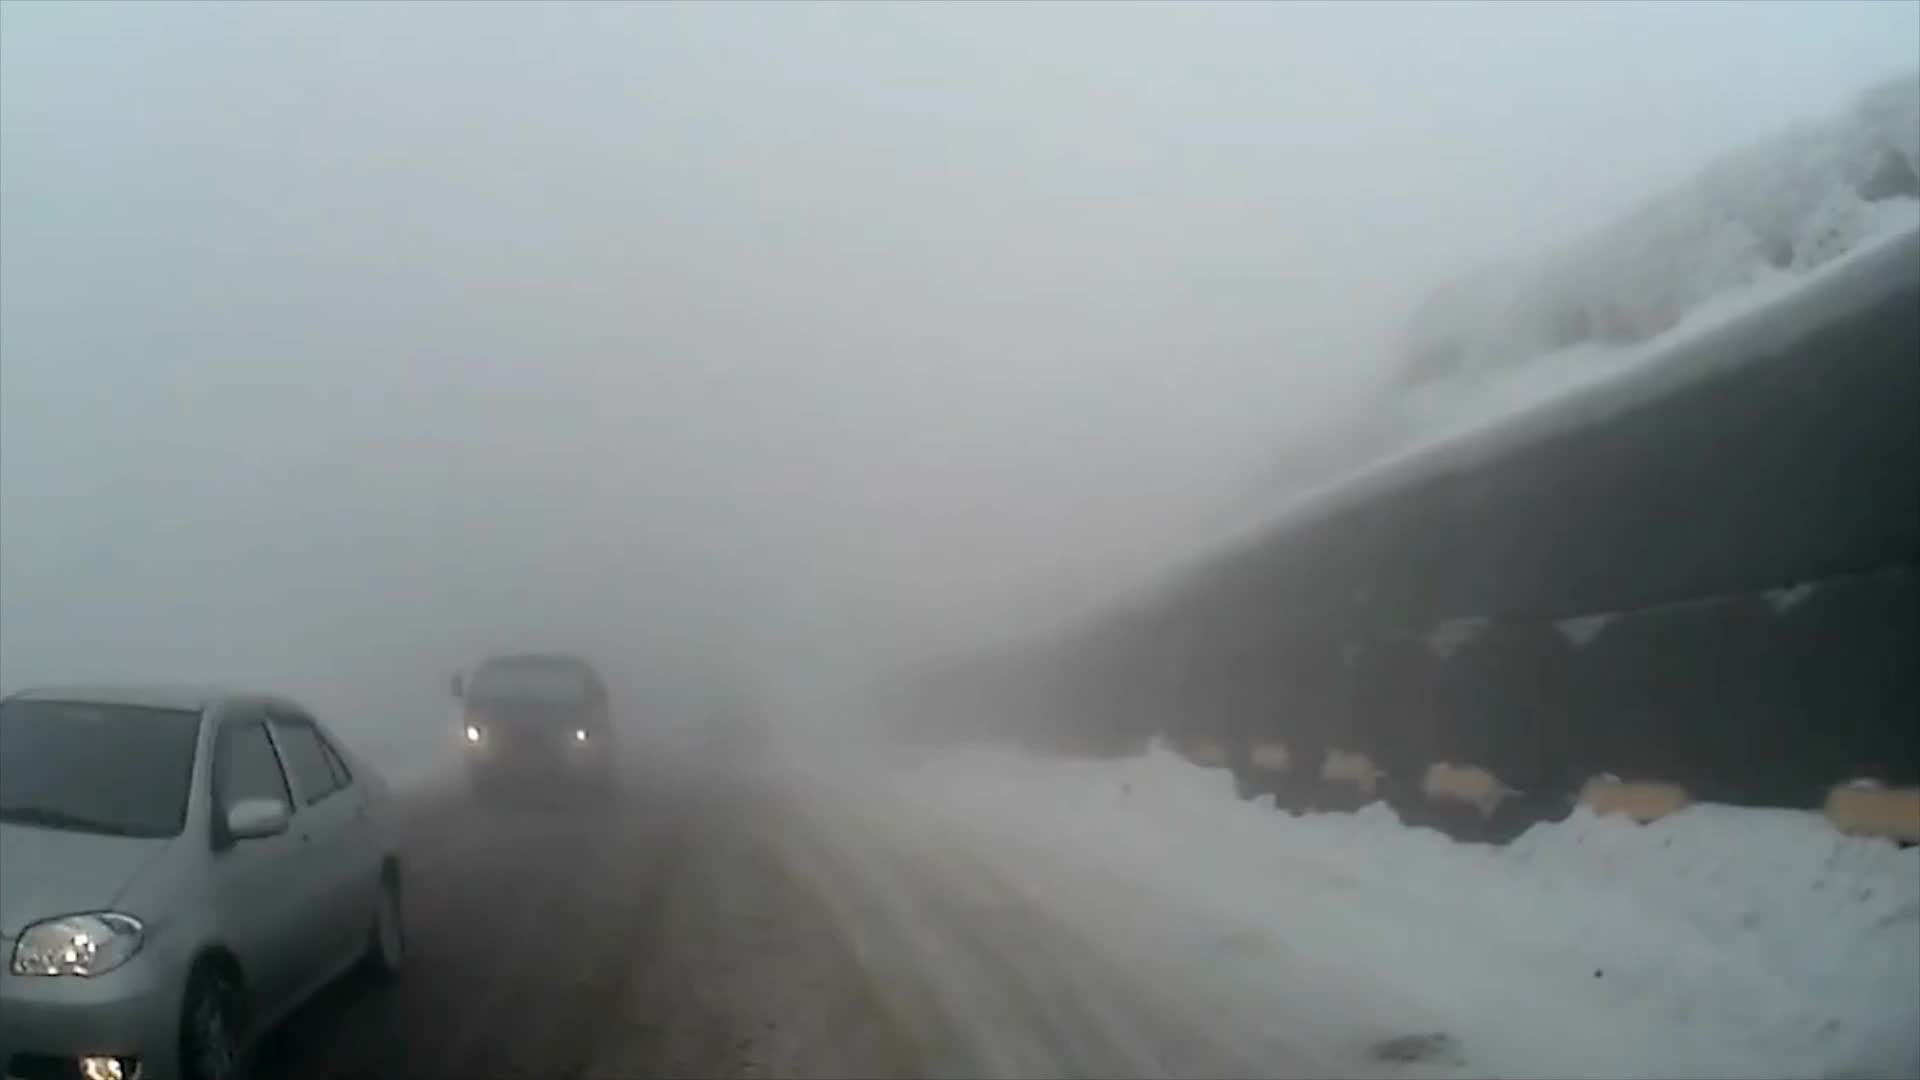vehicle: (0, 678, 410, 1080), (448, 651, 618, 800)
